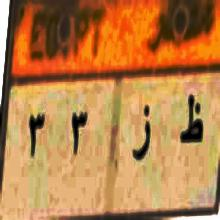3: (21, 109, 49, 164), (69, 99, 90, 165)
Thaa: (180, 82, 205, 162)
zay: (128, 100, 157, 171)
